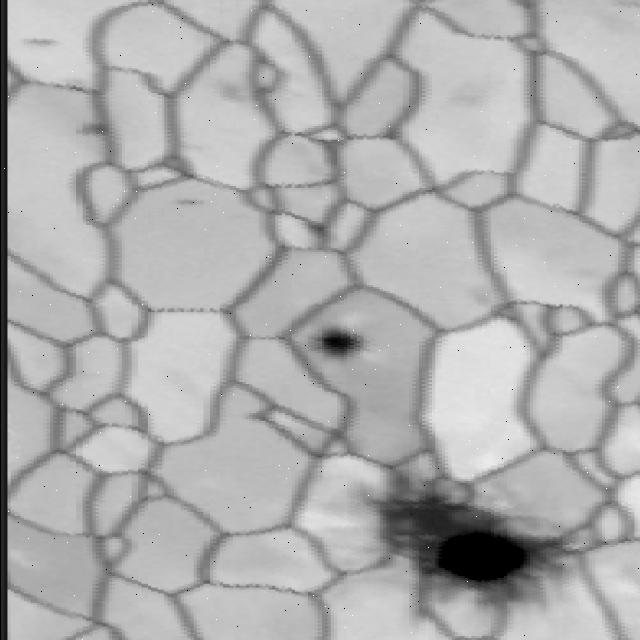good_void: (312, 458, 583, 590), (296, 319, 377, 369), (199, 77, 252, 110), (65, 114, 118, 145), (10, 31, 70, 52), (162, 193, 208, 212), (459, 292, 490, 310)
